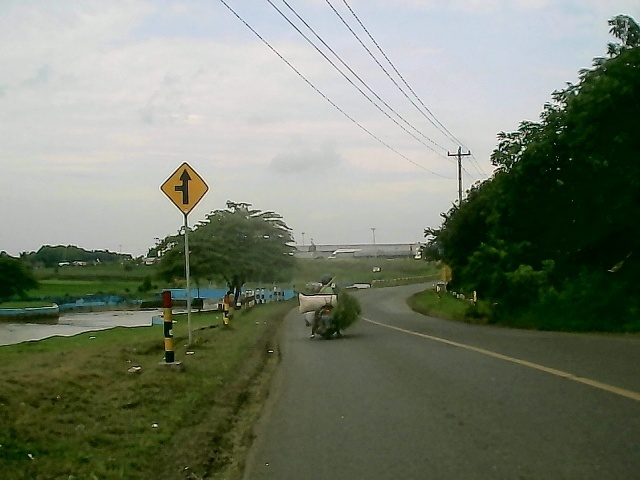Simpang kiri dengan prioritas: (157, 161, 214, 217)
